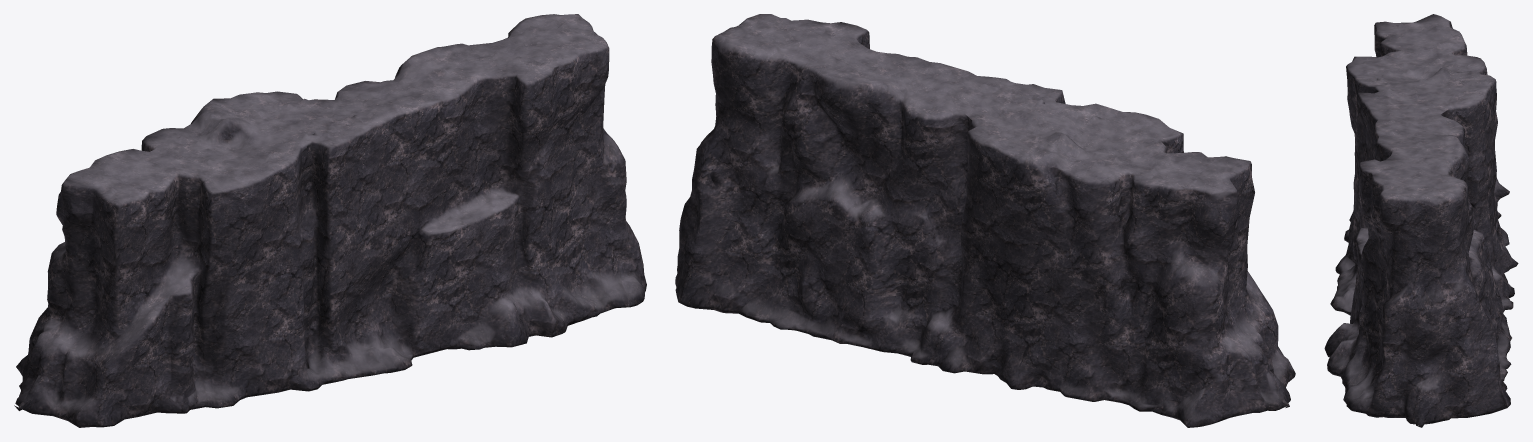
Rendered from Prop_RockCliff.fbx.
The picture shows the model from 3 angles, left to right: view 1: azimuth 30°, elevation 25°; view 2: azimuth 150°, elevation 25°; view 3: azimuth 270°, elevation 25°; orthographic projection. The views are drawn at different scales.
Parts seen in each view (by area): view 1: Prop_RockCliff; view 2: Prop_RockCliff; view 3: Prop_RockCliff.
Boxes of the visible parts, <box> form: Prop_RockCliff: <box>14,14,646,427</box>; Prop_RockCliff: <box>675,14,1295,427</box>; Prop_RockCliff: <box>1324,14,1518,427</box>.
Bounding box in the file's own units: 15.98 × 6.21 × 5.14.
